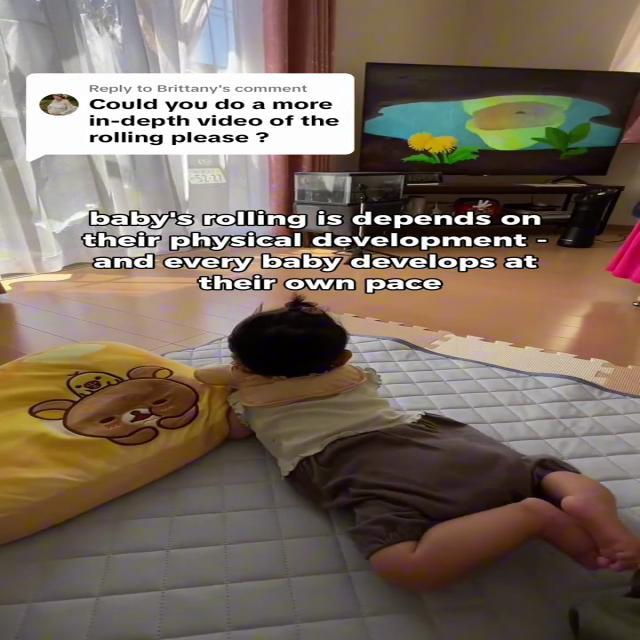baby: (194, 300, 640, 583)
